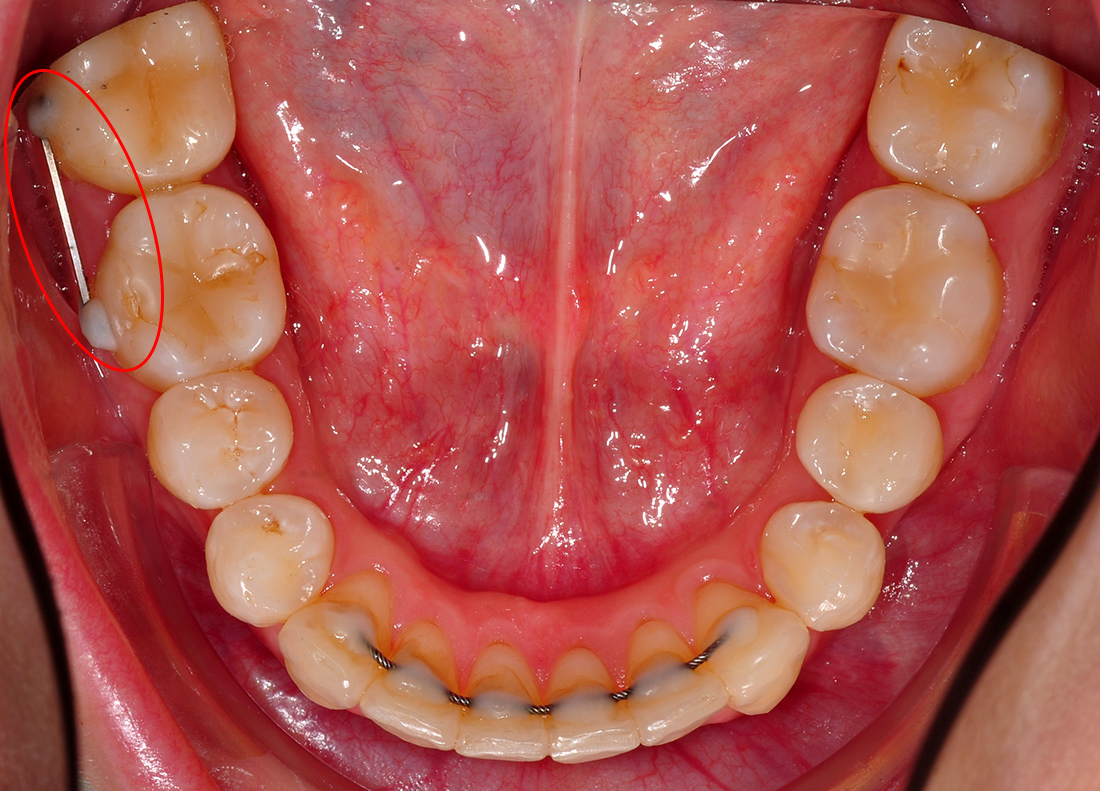LL1BC_healthy: (763, 504, 885, 628)
LL1M_healthy: (802, 183, 1003, 395)
LL2BC_healthy: (794, 376, 942, 513)
LL2M_decay: (869, 13, 1066, 207)
LLCI_decay: (551, 650, 642, 768)
LLC_decay: (699, 580, 811, 728)
LLLI_decay: (619, 625, 729, 747)
LR1BC_decay: (200, 498, 332, 628)
LR1M_decay: (88, 187, 291, 376)
LR2BC_decay: (148, 372, 296, 512)
LR2M_decay: (29, 1, 243, 178)
LRCI_decay: (456, 636, 549, 771)
LRC_decay: (276, 583, 377, 716)
LRLI_decay: (369, 615, 458, 757)
